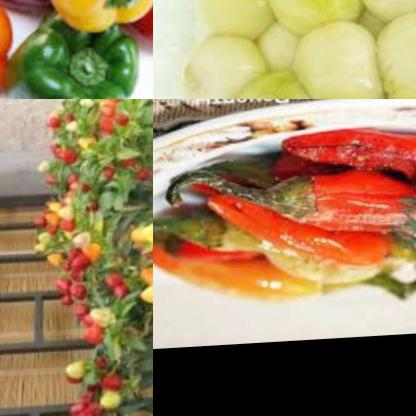bell pepper: (1, 4, 139, 99), (8, 0, 153, 28)
hot pepper: (161, 157, 416, 265), (204, 183, 416, 302), (153, 227, 416, 319), (276, 109, 416, 231), (153, 197, 305, 286), (26, 191, 101, 344), (23, 99, 103, 191), (78, 99, 153, 192), (52, 338, 108, 416), (89, 257, 134, 326), (88, 363, 126, 416), (117, 218, 153, 266), (129, 259, 153, 322)
onion: (175, 0, 416, 99)
